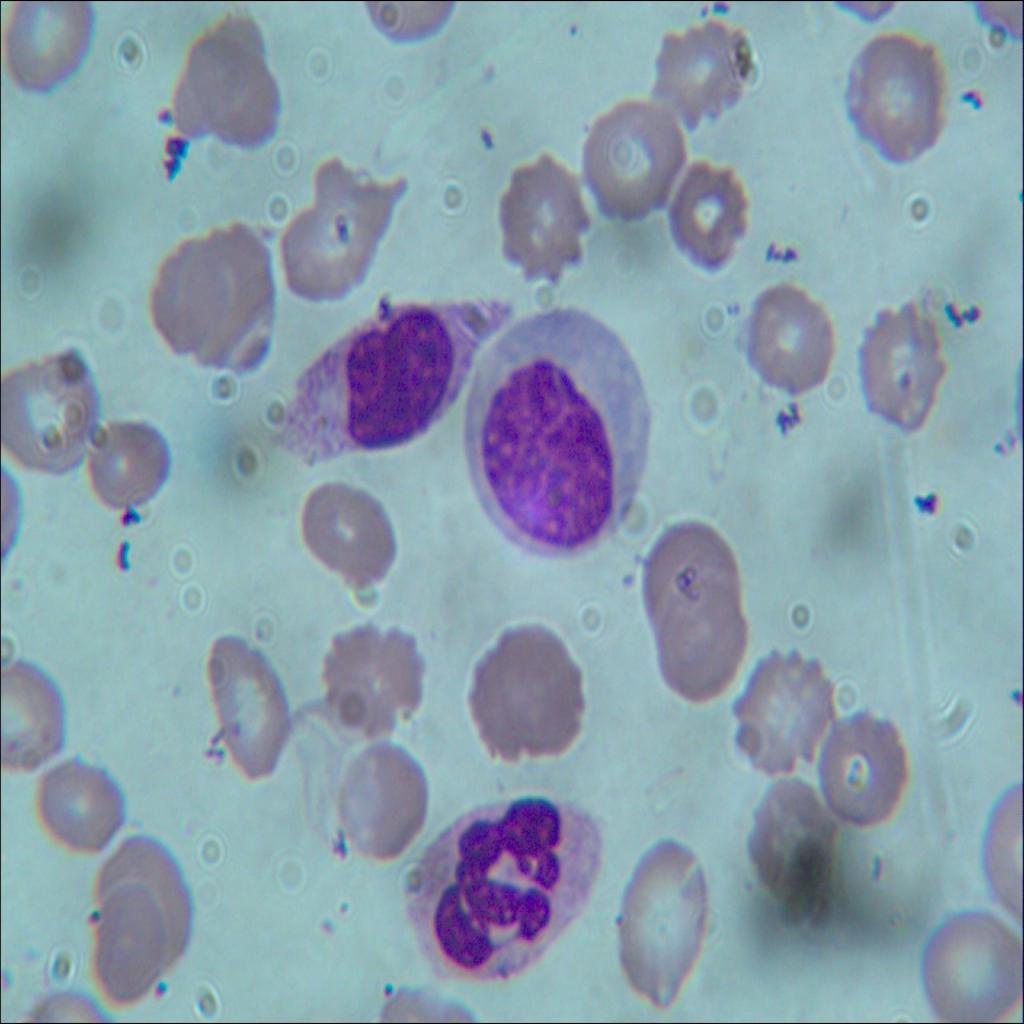Eritrosit: (458, 621, 590, 767), (618, 835, 718, 1018), (284, 147, 398, 302), (153, 230, 269, 376), (308, 610, 428, 748), (199, 621, 296, 791), (840, 31, 954, 175), (726, 644, 841, 785), (0, 338, 99, 489), (495, 150, 595, 298), (575, 92, 681, 228), (914, 892, 1020, 1022), (286, 481, 396, 601), (326, 744, 430, 870), (856, 301, 950, 435), (740, 271, 838, 398), (755, 758, 838, 902), (650, 572, 742, 698), (816, 705, 910, 828), (0, 0, 106, 108), (162, 14, 259, 130), (635, 525, 741, 630), (646, 17, 752, 121), (188, 34, 282, 151), (661, 159, 751, 275), (82, 412, 171, 520), (0, 641, 68, 778), (36, 755, 123, 861)
Limfoblast: (458, 308, 658, 558), (308, 291, 489, 472)
Neutrofil: (400, 790, 606, 996)
Platelet: (146, 962, 179, 1007), (989, 680, 1023, 717), (84, 894, 110, 934)
